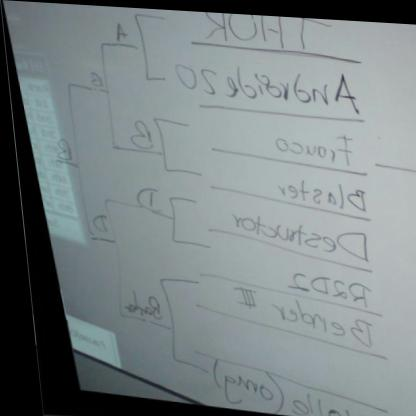Handwritten text: (169, 56, 378, 117), (255, 285, 386, 357), (215, 209, 369, 254), (197, 9, 344, 51), (269, 258, 373, 312), (263, 121, 365, 165), (267, 172, 376, 209), (200, 359, 268, 412)
